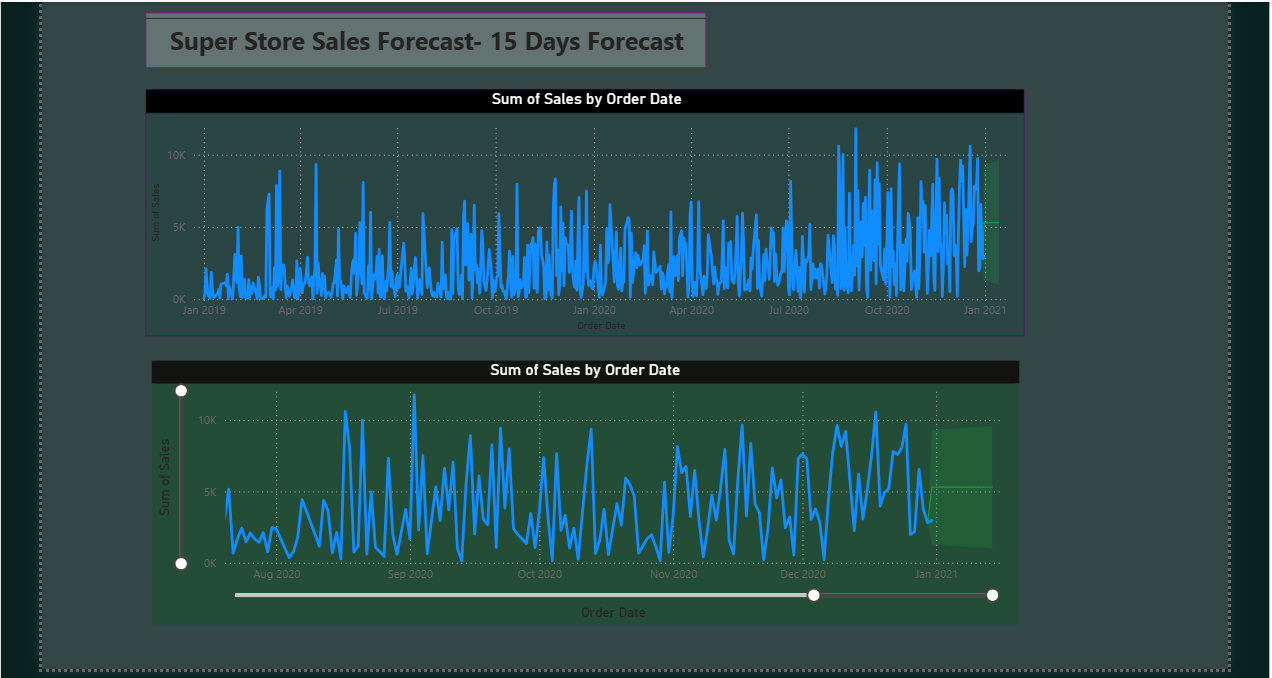

The dashboard page shown, as its layout file describes it:
{"tool":"powerbi","page":{"name":"Page 2","canvas":[1280,720],"ordinal":1},"visuals":[{"type":"lineChart","fields":{"Category":["SuperStore_Sales_Dataset.Order Date"],"Y":["Sum(SuperStore_Sales_Dataset.Sales)"]},"box":[111.7,93.3,948.3,266.7],"z":0},{"type":"lineChart","fields":{"Category":["SuperStore_Sales_Dataset.Order Date"],"Y":["Sum(SuperStore_Sales_Dataset.Sales)"]},"box":[118.3,386.7,936.7,285],"z":1000},{"type":"textbox","box":[111.7,11.7,605,60],"z":2000}]}

Visuals, with their boxes on the page's 1280x720 design canvas (x1, y1, x2, y2). These are canvas units, not pixel positions in the 1272x678 screenshot, which may show the page scaled, cropped or inside an application window:
lineChart - SuperStore_Sales_Dataset.Order Date x Sum(SuperStore_Sales_Dataset.Sales): Rect(112, 93, 1060, 360)
lineChart - SuperStore_Sales_Dataset.Order Date x Sum(SuperStore_Sales_Dataset.Sales): Rect(118, 387, 1055, 672)
textbox: Rect(112, 12, 717, 72)
